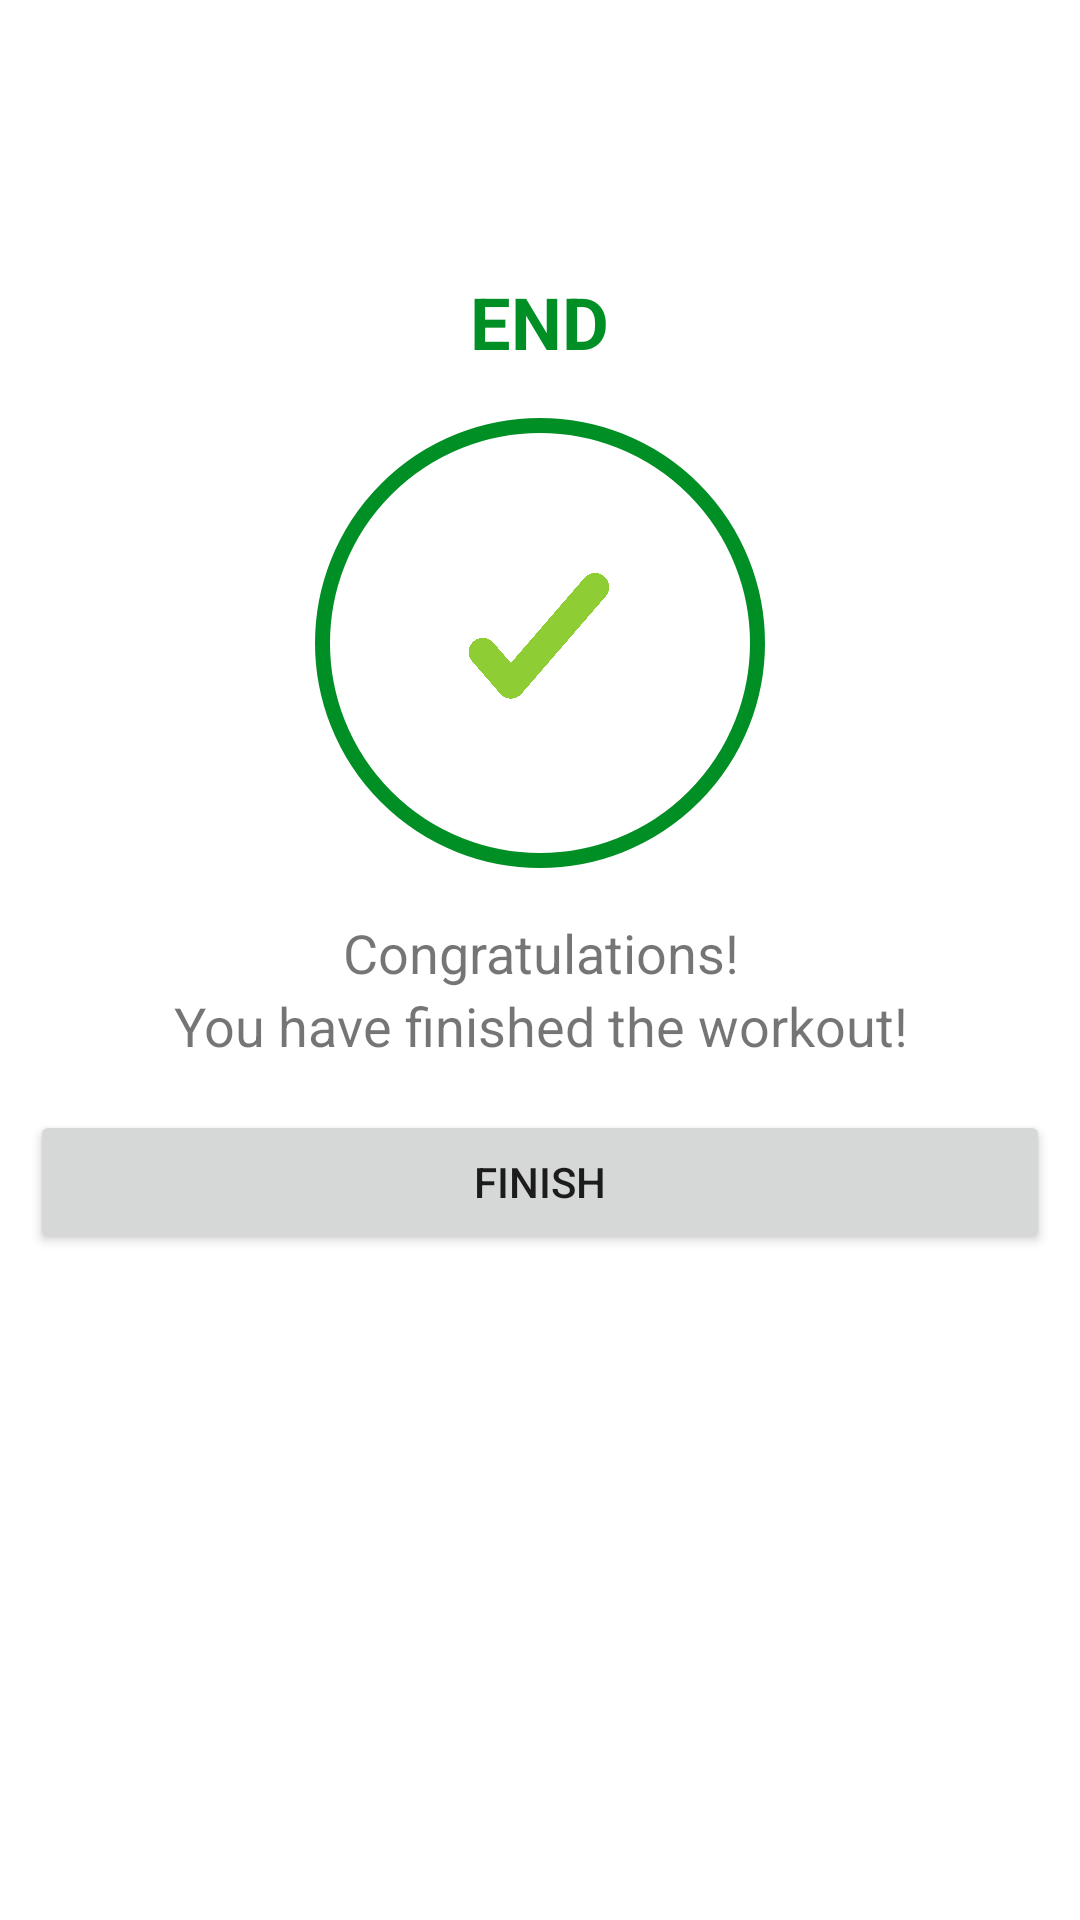

Named icons in this screenshot (1080w x 1920h) and their centers, [x,y]:
done: [539,636]
